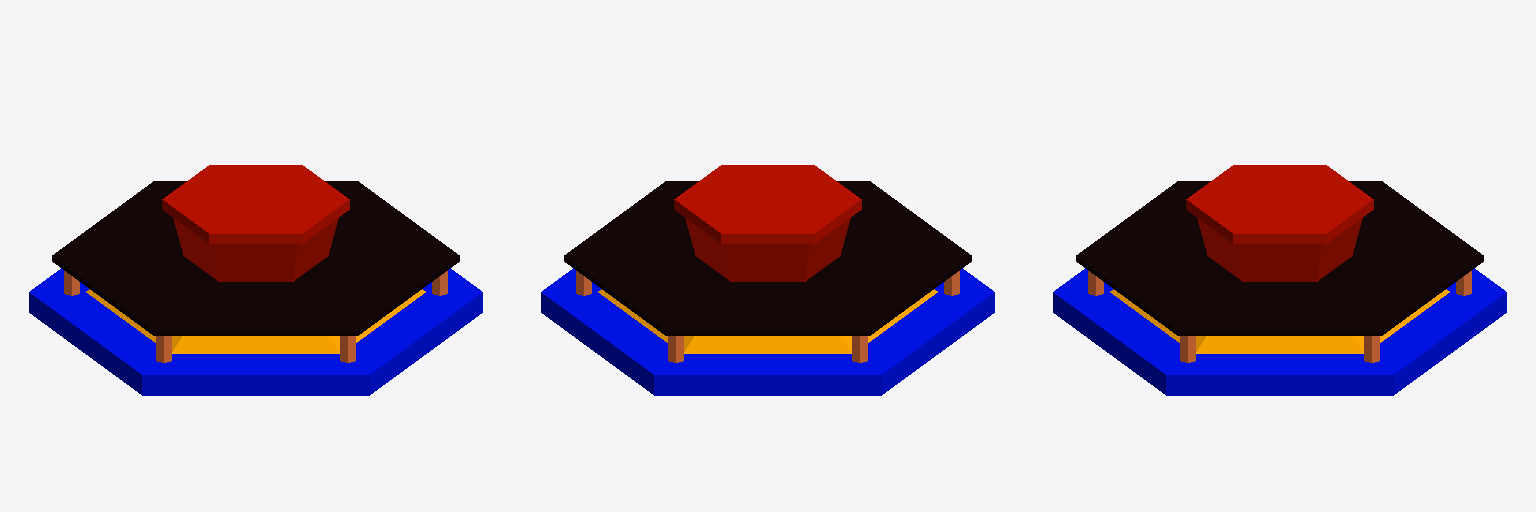
Rendered from Empty.obj.
The picture shows the model from 3 angles: view 1: azimuth 30°, elevation 25°; view 2: azimuth 150°, elevation 25°; view 3: azimuth 270°, elevation 25°; orthographic projection.
Visible parts, largest first — view 1: Table, Island, Pot; view 2: Table, Island, Pot; view 3: Table, Island, Pot.
Part boxes in pixels (x1,y1,x2,y2): Table: (52, 181, 459, 362); Island: (29, 268, 482, 395); Pot: (162, 165, 349, 281); Table: (564, 181, 971, 362); Island: (541, 268, 994, 395); Pot: (674, 165, 861, 281); Table: (1076, 181, 1483, 362); Island: (1053, 268, 1506, 395); Pot: (1186, 165, 1373, 281).
Bounding box in the file's own units: 1.73 × 0.55 × 2.